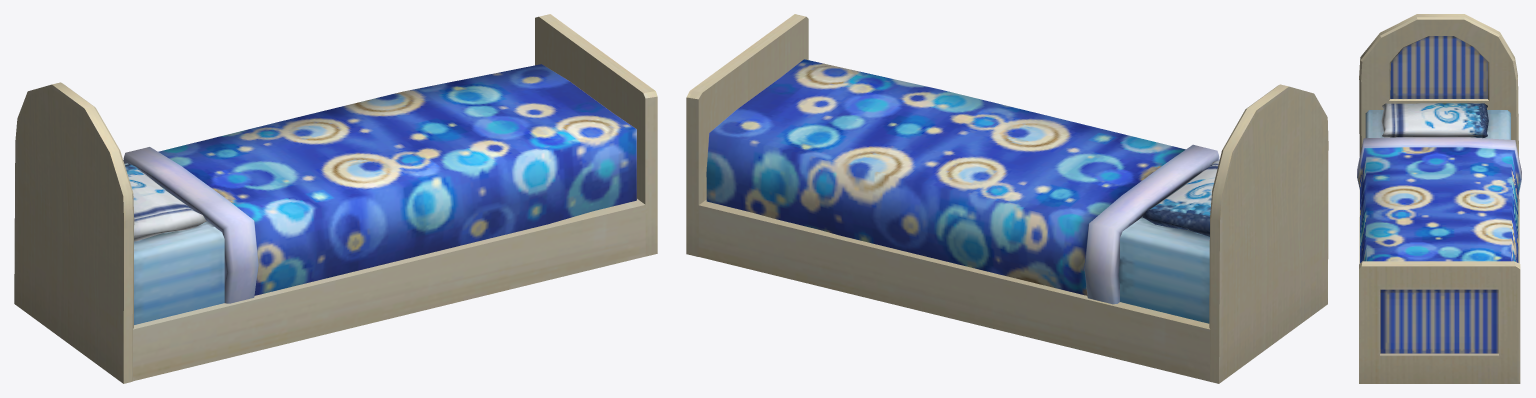
Rendered from furni_0200501.FBX.
3 views of the same model, side by side, from view 1: azimuth 30°, elevation 25°; view 2: azimuth 150°, elevation 25°; view 3: azimuth 270°, elevation 25° (orthographic). The views are drawn at different scales.
Parts seen in each view (by area): view 1: furni_0200501; view 2: furni_0200501; view 3: furni_0200501.
Boxes of the visible parts, <box> form: furni_0200501: <box>14,14,657,383</box>; furni_0200501: <box>686,14,1328,383</box>; furni_0200501: <box>1357,14,1521,383</box>.
Size of the model in its own units: 220 by 97.32 by 80.58.
Materials: 1 (1 with a texture image).
